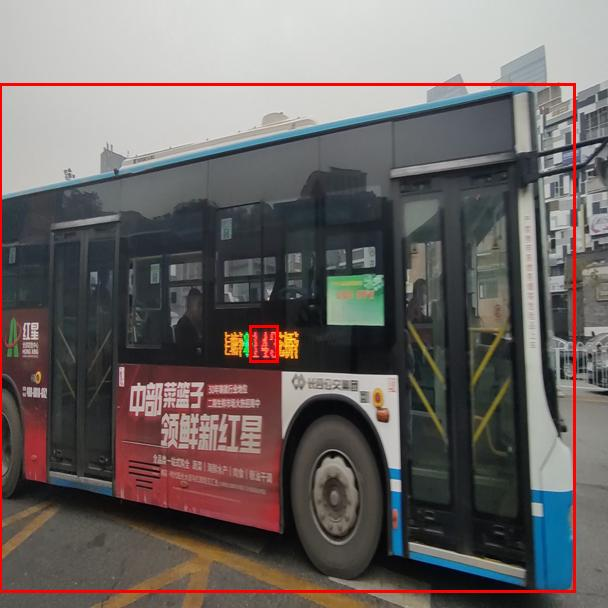screen: (249, 325, 278, 362)
